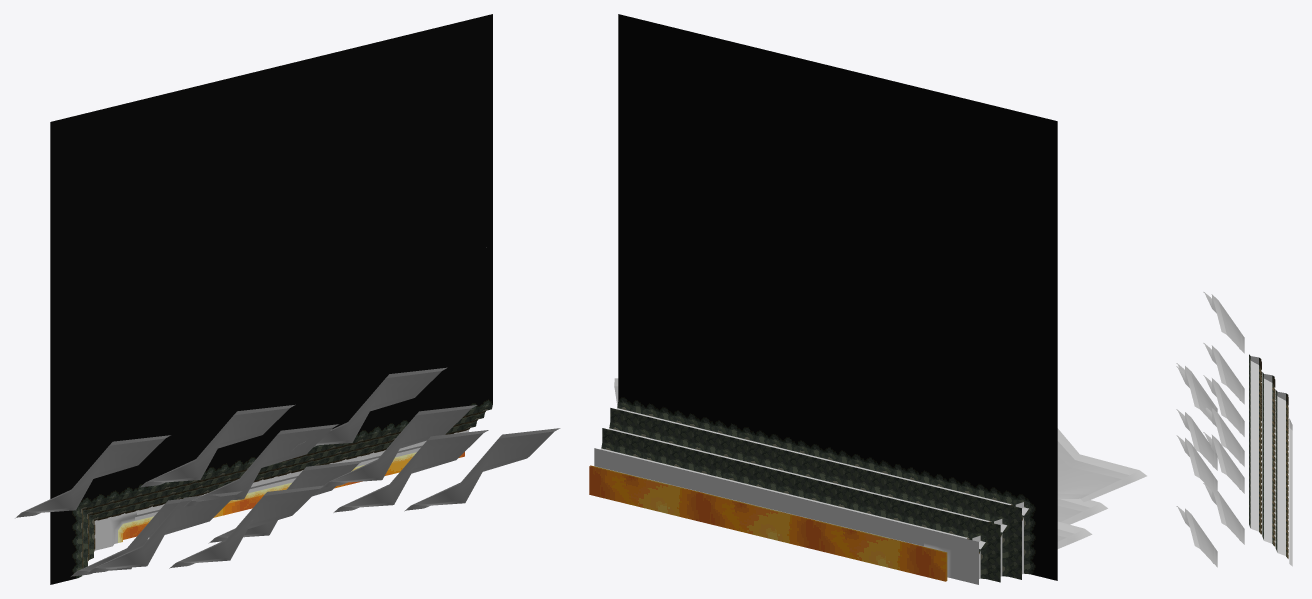
Rendered from Victory-Road-3_00_00.obj.
3 renders of one model, left to right at view 1: azimuth 30°, elevation 25°; view 2: azimuth 150°, elevation 25°; view 3: azimuth 270°, elevation 25°, orthographic. The views are drawn at different scales.
Parts seen in each view (by area): view 1: map; view 2: map; view 3: map.
Boxes of the visible parts, bbox=[...] form: map: bbox=[15, 14, 560, 584]; map: bbox=[589, 14, 1146, 584]; map: bbox=[1176, 292, 1292, 567].
Size of the model in its own units: 39.18 by 32 by 9.03.
